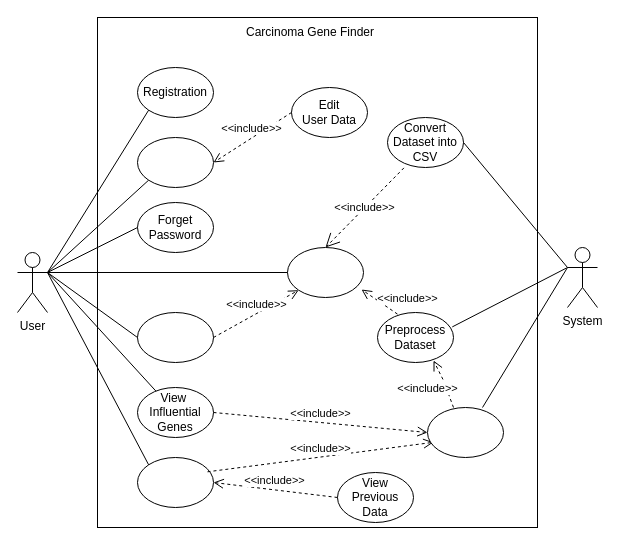
The diagram is 620 pixels wide and 545 high, and some of its shapes have lost their labels. The shapes that lost their labels are listed below. From the top down, each one's centre as x and y in pixels, then its label:
At pixel 175 162: "Login".
At pixel 325 272: "Upload Dataset".
At pixel 175 337: "Trace Procedure".
At pixel 465 432: "Find Influential Gene".
At pixel 175 482: "Check History".
